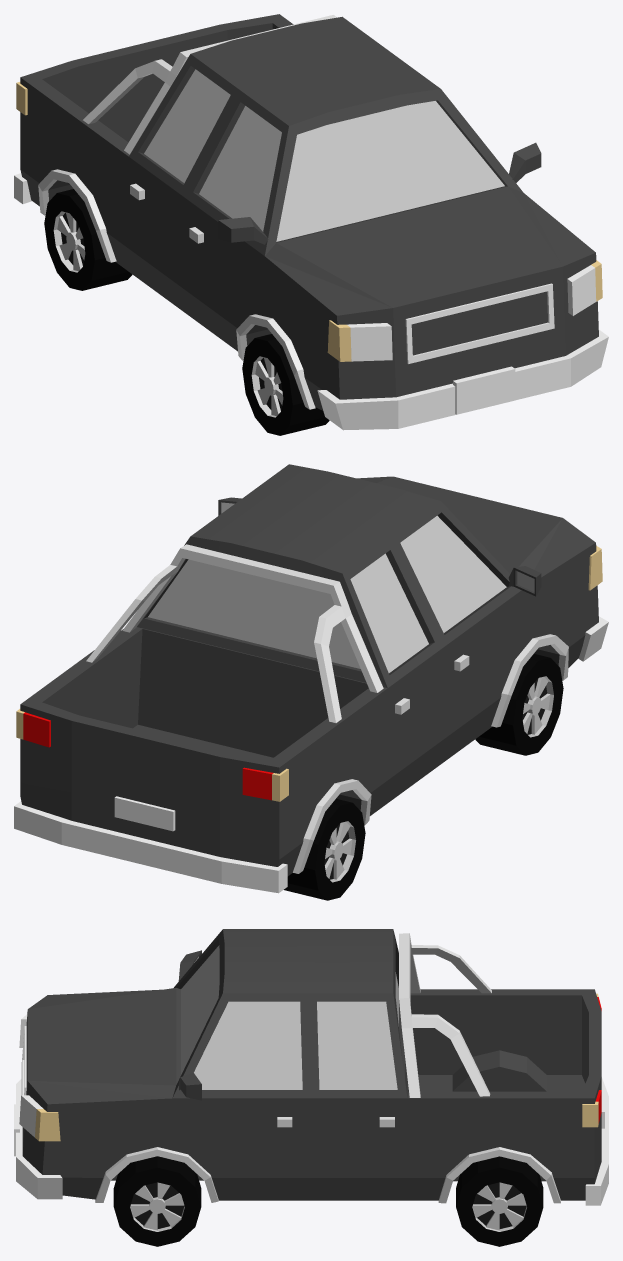
Rendered from Car-11-B.fbx.
3 views of the same model, one above another, from view 1: azimuth 30°, elevation 25°; view 2: azimuth 150°, elevation 25°; view 3: azimuth 270°, elevation 25° (orthographic). The views are drawn at different scales.
Parts seen in each view (by area): view 1: Car-11, FR, BR, Head-Light, Light-Right; view 2: Car-11, FR, BR, Break-Light, Light-Right; view 3: Car-11, FL, BL, Light-Left, Head-Light.
Part boxes in pixels (x1,y1,x2,y2): Car-11: (14, 14, 608, 430); FR: (242, 334, 329, 435); BR: (44, 189, 132, 290); Head-Light: (347, 265, 596, 361); Light-Right: (16, 82, 351, 361); Car-11: (14, 464, 608, 893); FR: (475, 654, 563, 755); BR: (284, 798, 365, 900); Break-Light: (23, 712, 273, 800); Light-Right: (272, 546, 602, 801); Car-11: (14, 929, 608, 1205); FL: (113, 1156, 201, 1246); BL: (456, 1156, 543, 1246); Light-Left: (35, 1101, 598, 1141); Head-Light: (19, 1014, 43, 1137).
Size of the model in its own units: 3.09 by 2.49 by 5.79.
